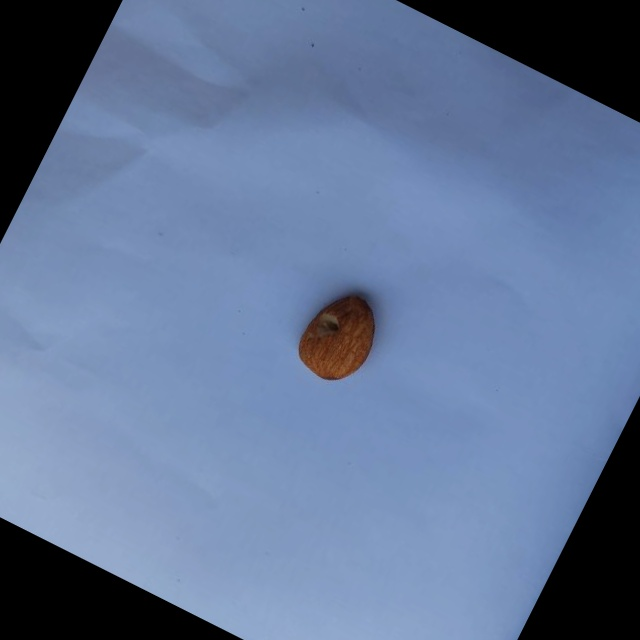grade3: (283, 275, 394, 397)
